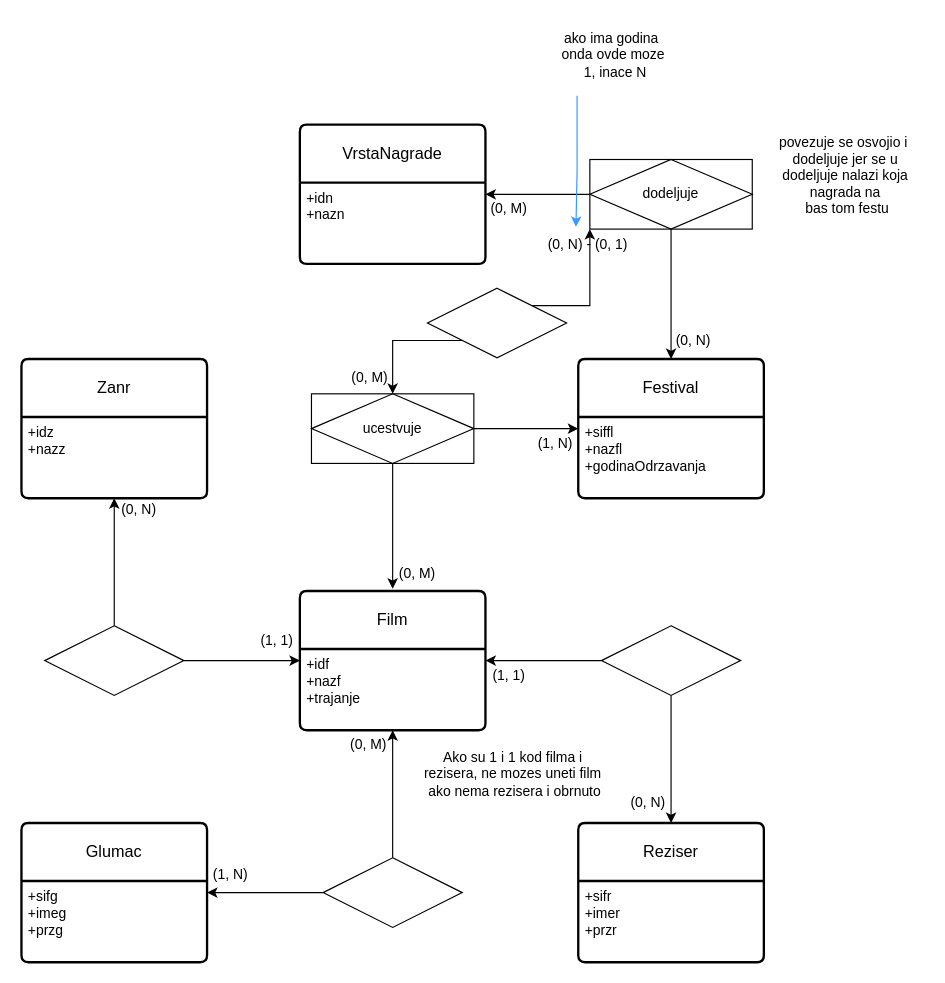
The diagram is 945 pixels wide and 983 high, and some of its shapes have lost their labels. The centre of each missing label's shape, as x and y in pixels:
glumi: point (392, 892)
osvojio: point (496, 322)
pripada: point (114, 660)
rezirao: point (670, 660)
